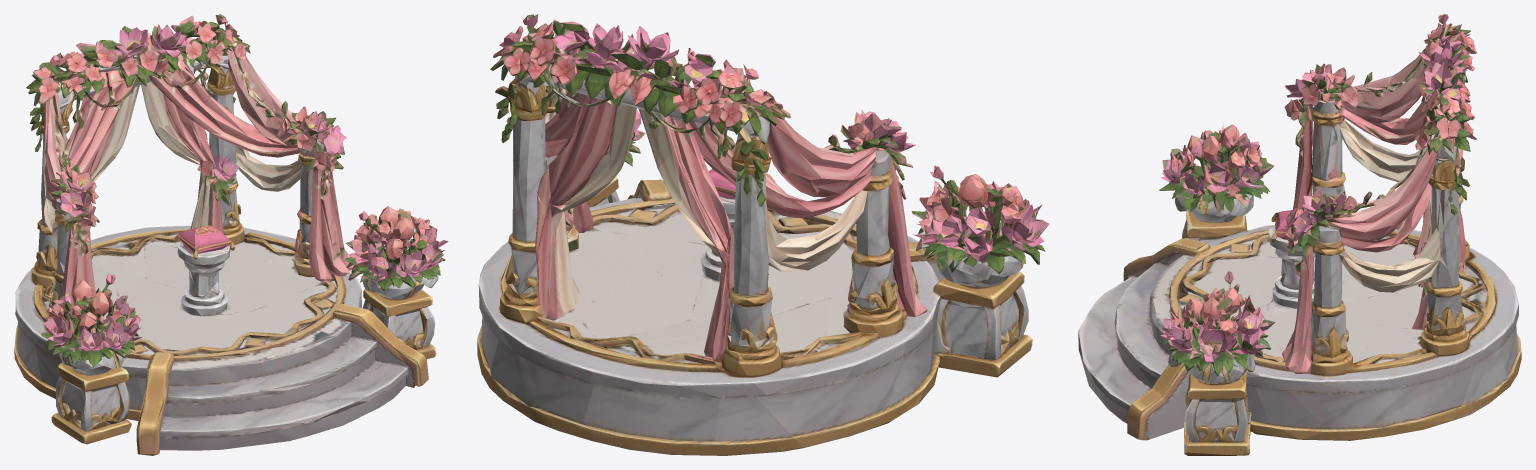
File: wh_altar_stage.fbx
3 renders of one model, left to right at view 1: azimuth 30°, elevation 25°; view 2: azimuth 150°, elevation 25°; view 3: azimuth 270°, elevation 25°, orthographic. The views are drawn at different scales.
Visible parts, largest first — view 1: wh_altar_stage; view 2: wh_altar_stage; view 3: wh_altar_stage.
Boxes of the visible parts, left/top/right/bottom form: wh_altar_stage: left=14, top=14, right=448, bottom=455; wh_altar_stage: left=477, top=14, right=1049, bottom=455; wh_altar_stage: left=1078, top=14, right=1521, bottom=455.
Bounding box in the file's own units: 4.86 × 3.4 × 4.31.
